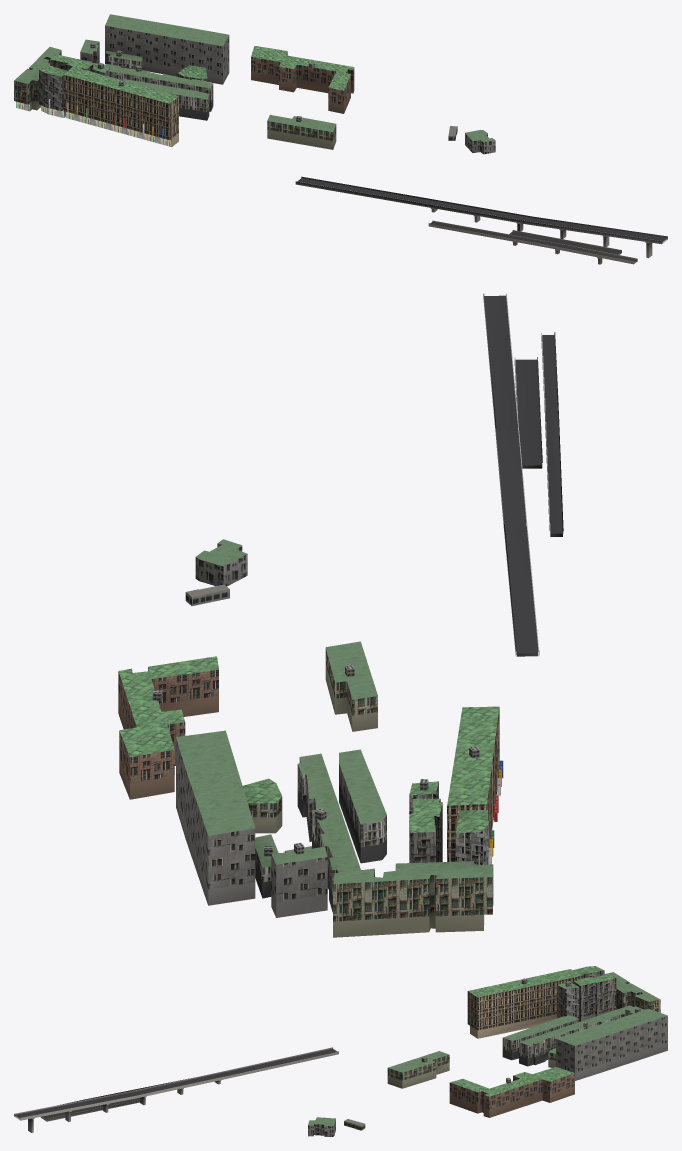
3 renders of one model, top to bottom at view 1: azimuth 30°, elevation 25°; view 2: azimuth 150°, elevation 25°; view 3: azimuth 270°, elevation 25°, orthographic. The views are drawn at different scales.
Parts seen in each view (by area): view 1: buildings_roof_ai_1, buildings_facade_ai_shophouse_arcade, buildings_facade_ai_grey_wash, bridges_concrete, buildings_roof_ai_0, bridges_deck, buildings_facade_ai_brown_brick_tile, buildings_facade_ai_blue_green_tile, buildings_facade_ai_white_tile_apts, buildings_storefront, buildings_facade_ai_condo_1990s, buildings_facade_ai_grey; view 2: buildings_roof_ai_1, bridges_deck, buildings_facade_ai_blue_green_tile, buildings_roof_ai_0, buildings_facade_ai_grey_wash, buildings_facade_ai_brown_brick_tile, buildings_facade_ai_white_tile_apts, bridges_concrete, buildings_facade_ai_shophouse_arcade, buildings_facade_ai_condo_1990s, buildings_facade_ai_concrete, buildings_facade_ai_grey; view 3: buildings_facade_ai_grey_wash, buildings_roof_ai_1, buildings_facade_ai_shophouse_arcade, buildings_facade_ai_brown_brick_tile, buildings_roof_ai_0, bridges_concrete, buildings_facade_ai_blue_green_tile, bridges_deck, buildings_facade_ai_white_tile_apts, buildings_facade_ai_concrete, buildings_facade_ai_condo_1990s, buildings_facade_ai_grey.
Part boxes in pixels (bbox=[...]): buildings_roof_ai_1: bbox=[14, 14, 494, 142]; buildings_facade_ai_shophouse_arcade: bbox=[64, 75, 178, 146]; buildings_facade_ai_grey_wash: bbox=[80, 25, 229, 84]; bridges_concrete: bbox=[295, 176, 667, 264]; buildings_roof_ai_0: bbox=[39, 46, 354, 103]; bridges_deck: bbox=[297, 178, 666, 261]; buildings_facade_ai_brown_brick_tile: bbox=[251, 52, 354, 113]; buildings_facade_ai_blue_green_tile: bbox=[14, 50, 336, 149]; buildings_facade_ai_white_tile_apts: bbox=[92, 53, 213, 120]; buildings_storefront: bbox=[16, 101, 171, 146]; buildings_facade_ai_condo_1990s: bbox=[39, 67, 109, 117]; buildings_facade_ai_grey: bbox=[465, 133, 495, 154]; buildings_roof_ai_1: bbox=[176, 539, 493, 884]; bridges_deck: bbox=[484, 295, 562, 653]; buildings_facade_ai_blue_green_tile: bbox=[248, 648, 493, 937]; buildings_roof_ai_0: bbox=[118, 656, 499, 833]; buildings_facade_ai_grey_wash: bbox=[176, 738, 327, 917]; buildings_facade_ai_brown_brick_tile: bbox=[118, 667, 218, 799]; buildings_facade_ai_white_tile_apts: bbox=[255, 749, 386, 912]; bridges_concrete: bbox=[483, 293, 563, 656]; buildings_facade_ai_shophouse_arcade: bbox=[447, 707, 499, 861]; buildings_facade_ai_condo_1990s: bbox=[409, 782, 488, 865]; buildings_facade_ai_concrete: bbox=[409, 799, 442, 862]; buildings_facade_ai_grey: bbox=[195, 543, 247, 586]; buildings_facade_ai_grey_wash: bbox=[556, 1009, 667, 1080]; buildings_roof_ai_1: bbox=[308, 972, 667, 1125]; buildings_facade_ai_shophouse_arcade: bbox=[467, 976, 582, 1038]; buildings_facade_ai_brown_brick_tile: bbox=[449, 1073, 574, 1117]; buildings_roof_ai_0: bbox=[450, 966, 615, 1096]; bridges_concrete: bbox=[14, 1047, 338, 1132]; buildings_facade_ai_blue_green_tile: bbox=[387, 982, 660, 1088]; bridges_deck: bbox=[14, 1048, 336, 1119]; buildings_facade_ai_white_tile_apts: bbox=[502, 1014, 625, 1066]; buildings_facade_ai_concrete: bbox=[573, 978, 616, 1021]; buildings_facade_ai_condo_1990s: bbox=[557, 970, 604, 1018]; buildings_facade_ai_grey: bbox=[308, 1119, 335, 1136].
Bounding box in the file's own units: 236 × 33.97 × 443.
Materials: 17 (14 with a texture image).
